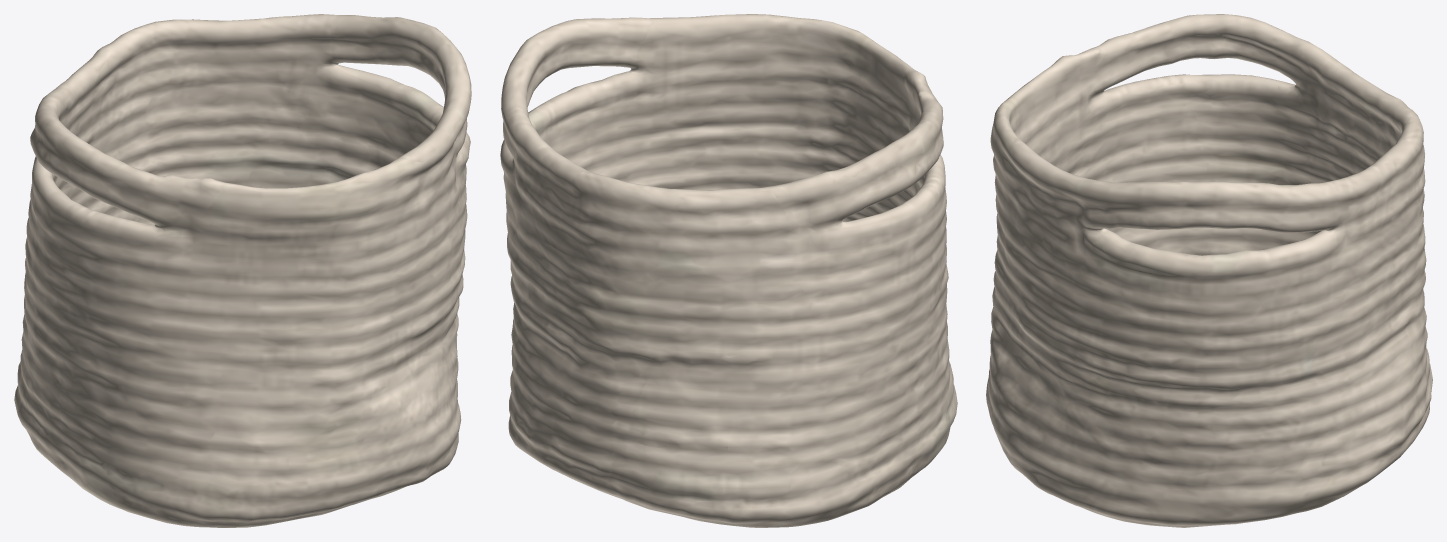
Rendered from 22 - TJABBIG Basket - natural 15x13 cm.glb.
3 renders of one model, left to right at view 1: azimuth 30°, elevation 25°; view 2: azimuth 150°, elevation 25°; view 3: azimuth 270°, elevation 25°, orthographic. The views are drawn at different scales.
Parts seen in each view (by area): view 1: model; view 2: model; view 3: model.
Part boxes in pixels (x1=…): model: x1=14, y1=14, x2=471, y2=527; model: x1=500, y1=14, x2=957, y2=527; model: x1=986, y1=14, x2=1432, y2=527.
Bounding box in the file's own units: 0.163 × 0.1468 × 0.1632.
Materials: 1 (1 with a texture image).
